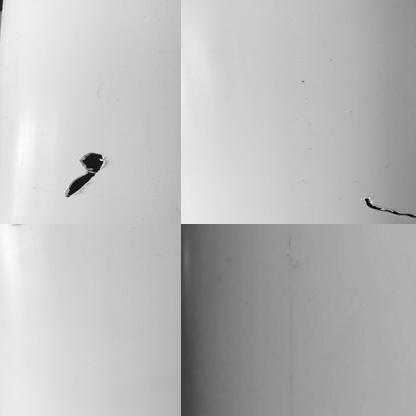fengxi: (365, 197, 413, 225)
kongdong: (58, 149, 106, 202)
